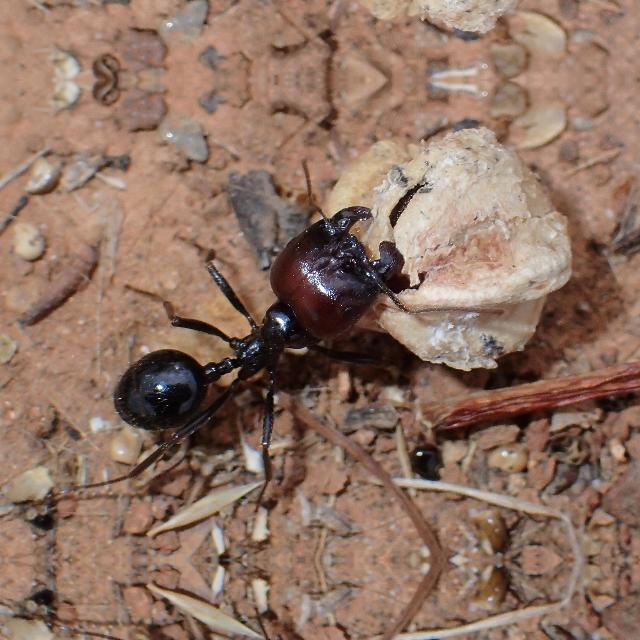Messor: (116, 191, 390, 459)
